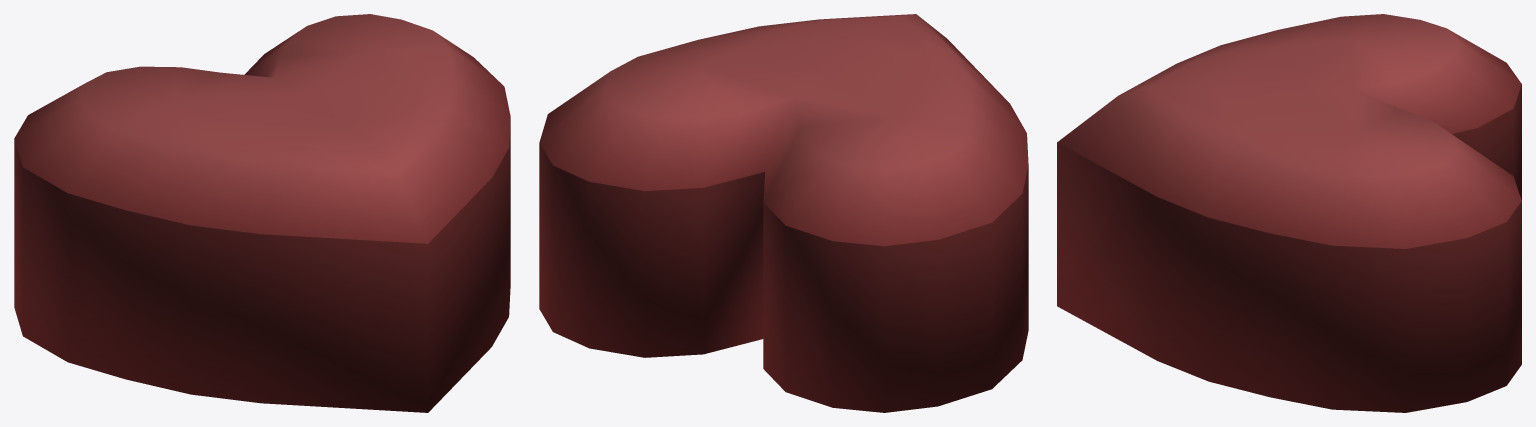
Rendered from part_Chocolate_3.fbx.
3 views of the same model, side by side, from view 1: azimuth 30°, elevation 25°; view 2: azimuth 150°, elevation 25°; view 3: azimuth 270°, elevation 25° (orthographic). The views are drawn at different scales.
Visible parts, largest first — view 1: choco_3; view 2: choco_3; view 3: choco_3.
Part boxes in pixels (x1=…): choco_3: x1=14, y1=14, x2=510, y2=412; choco_3: x1=539, y1=14, x2=1028, y2=412; choco_3: x1=1057, y1=14, x2=1521, y2=412.
Size of the model in its own units: 13.69 by 6.56 by 12.61.
